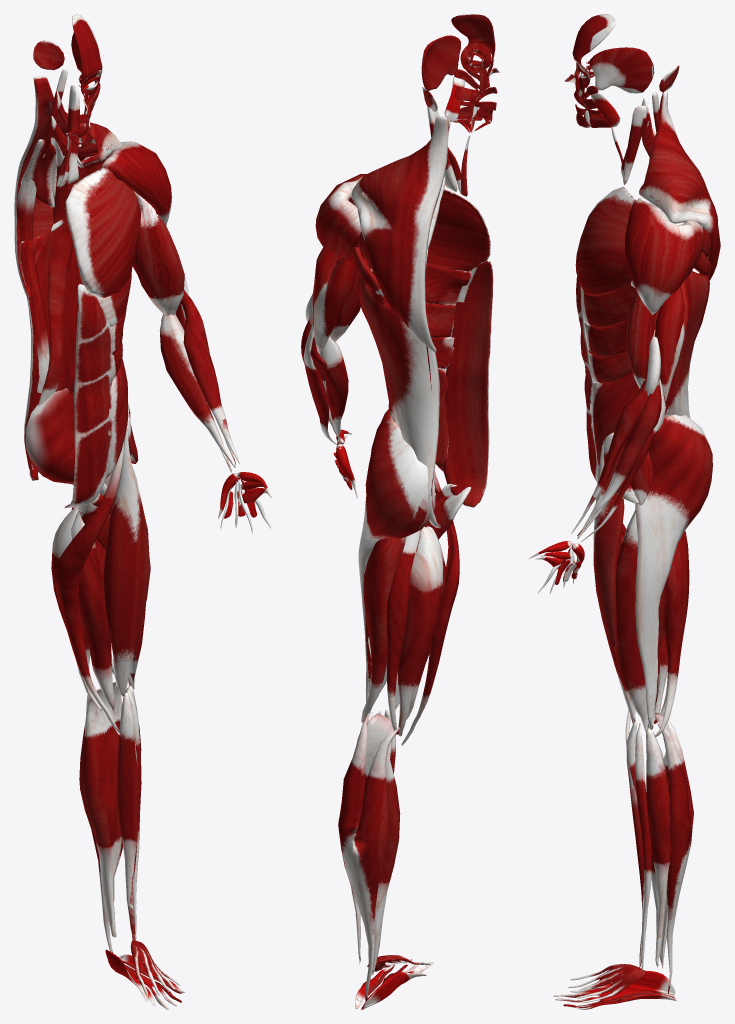
The model's file is HalfMuscles.FBX.
3 renders of one model, left to right at view 1: azimuth 30°, elevation 25°; view 2: azimuth 150°, elevation 25°; view 3: azimuth 270°, elevation 25°, orthographic. The views are drawn at different scales.
Parts seen in each view (by area): view 1: TorsoMusclesRectusAbdominisMuscle, TorsoMusclesPectoralMuscleLeft, LegMusclesRectusFemorisMuscleLeft, LegMusclesSoleusMuscleLeft, TorsoMusclesLatissimMuscleLeft, LegMusclesSartoriusMuscleLeft, TorsoMusclesTrapeziusMuscleLeft, LegMusclesTensorFasciaeLataeMuscleLeft, ArmMusclesBicepsBrachiiLeft, TorsoMusclesLongissimusMuscleLeft, LegMusclesTibialisAnteriorMuscleLeft, LegMusclesVstusMedialisMuscleLeft (+14 smaller); view 2: TorsoMusclesTrapeziusMuscleLeft, TorsoMusclesRectusAbdominisMuscle, TorsoMusclesLatissimMuscleLeft, LegMusclesGastrocnemiusMuscleLeft, LegMusclesTensorFasciaeLataeMuscleLeft, LegMusclesVastusIntermediusMuscleLeft, TorsoMusclesPectoralMuscleLeft, LegMusclesBicepFemorisMuscleLeft01, LegMusclesSoleusMuscleLeft, ArmMusclesTricepMucsleLeft, LegMusclesBicepFemorisMuscleLeft02, ArmMusclesDeltoideusMuscleLeft (+16 smaller); view 3: LegMusclesTensorFasciaeLataeMuscleLeft, ArmMusclesDeltoideusMuscleLeft, TorsoMusclesTrapeziusMuscleLeft, LegMusclesVastusLateralisMuscleLeft, TorsoMusclesPectoralMuscleLeft, LegMusclesGastrocnemiusMuscleLeft, LegMusclesPeroneuslongusMuscleLeft, LegMusclesRectusFemorisMuscleLeft, LegMusclesBicepFemorisMuscleLeft01, TorsoMusclesLatissimMuscleLeft, HeadMusclesTemporalMuscleLeft, ArmMusclesTricepMucsleLeft (+22 smaller).
Boxes of the visible parts, x1,y1,x2,y2 form: TorsoMusclesRectusAbdominisMuscle: [64, 283, 113, 508]; TorsoMusclesPectoralMuscleLeft: [65, 166, 140, 297]; LegMusclesRectusFemorisMuscleLeft: [103, 429, 150, 696]; LegMusclesSoleusMuscleLeft: [82, 681, 121, 937]; TorsoMusclesLatissimMuscleLeft: [19, 229, 83, 480]; LegMusclesSartoriusMuscleLeft: [54, 425, 127, 734]; TorsoMusclesTrapeziusMuscleLeft: [14, 76, 121, 299]; LegMusclesTensorFasciaeLataeMuscleLeft: [25, 382, 138, 686]; ArmMusclesBicepsBrachiiLeft: [133, 193, 184, 316]; TorsoMusclesLongissimusMuscleLeft: [38, 137, 72, 405]; LegMusclesTibialisAnteriorMuscleLeft: [117, 692, 139, 940]; LegMusclesVstusMedialisMuscleLeft: [71, 511, 114, 711]; TorsoMusclesTrapeziusMuscleLeft: [351, 115, 448, 352]; TorsoMusclesRectusAbdominisMuscle: [443, 261, 493, 507]; TorsoMusclesLatissimMuscleLeft: [358, 250, 440, 528]; LegMusclesGastrocnemiusMuscleLeft: [338, 714, 399, 1002]; LegMusclesTensorFasciaeLataeMuscleLeft: [358, 409, 435, 714]; LegMusclesVastusIntermediusMuscleLeft: [397, 526, 442, 736]; TorsoMusclesPectoralMuscleLeft: [426, 189, 490, 272]; LegMusclesBicepFemorisMuscleLeft01: [361, 537, 406, 723]; LegMusclesSoleusMuscleLeft: [365, 713, 400, 975]; ArmMusclesTricepMucsleLeft: [312, 247, 356, 353]; LegMusclesBicepFemorisMuscleLeft02: [387, 530, 420, 734]; ArmMusclesDeltoideusMuscleLeft: [315, 174, 366, 261]; LegMusclesTensorFasciaeLataeMuscleLeft: [635, 414, 712, 729]; ArmMusclesDeltoideusMuscleLeft: [625, 198, 704, 314]; TorsoMusclesTrapeziusMuscleLeft: [639, 90, 720, 280]; LegMusclesVastusLateralisMuscleLeft: [613, 510, 667, 731]; TorsoMusclesPectoralMuscleLeft: [575, 186, 635, 296]; LegMusclesGastrocnemiusMuscleLeft: [657, 712, 693, 993]; LegMusclesPeroneuslongusMuscleLeft: [646, 727, 671, 967]; LegMusclesRectusFemorisMuscleLeft: [593, 445, 635, 721]; LegMusclesBicepFemorisMuscleLeft01: [654, 531, 689, 737]; TorsoMusclesLatissimMuscleLeft: [666, 271, 709, 418]; HeadMusclesTemporalMuscleLeft: [589, 47, 654, 93]; ArmMusclesTricepMucsleLeft: [655, 280, 689, 401].
Bounding box in the file's own units: 28.13 × 155 × 28.33.
